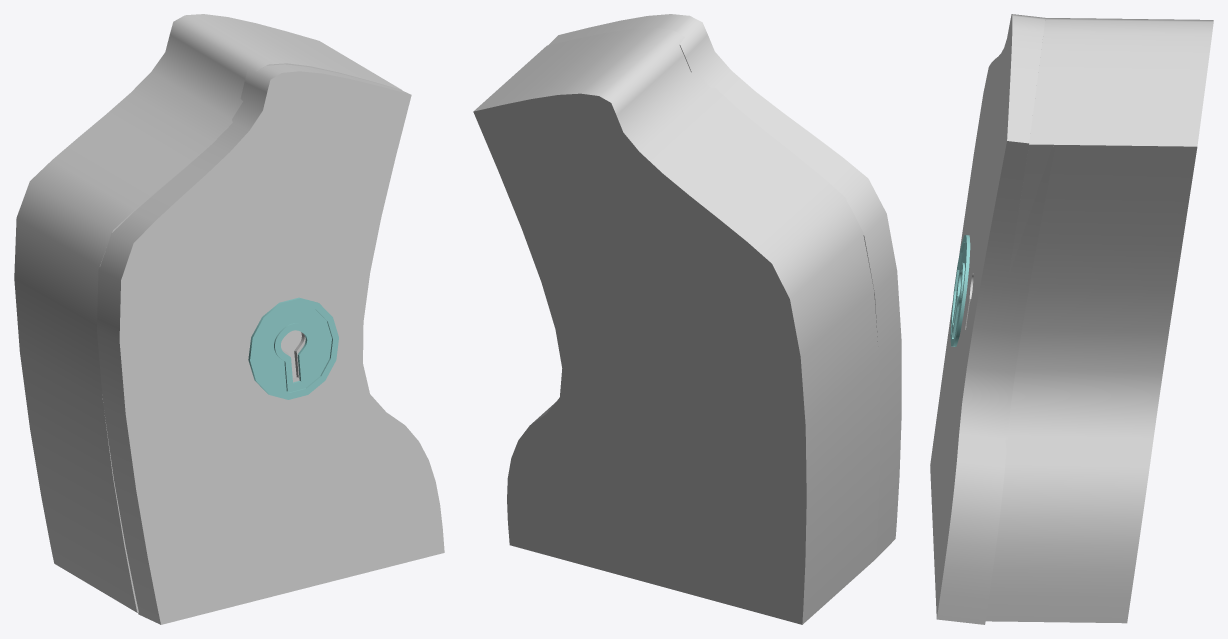
Rendered from schrank.FBX.
The picture shows the model from 3 angles, left to right: view 1: azimuth 30°, elevation 25°; view 2: azimuth 150°, elevation 25°; view 3: azimuth 270°, elevation 25°; orthographic projection. The views are drawn at different scales.
Visible parts, largest first — view 1: Line007, Line023, door; view 2: Line023, Line007; view 3: Line023, Line007, door.
Part boxes in pixels (x1,y1,x2,y2): Line007: [97, 64, 444, 624]; Line023: [14, 14, 401, 612]; door: [248, 297, 338, 399]; Line023: [473, 27, 880, 624]; Line007: [549, 14, 901, 558]; Line023: [985, 18, 1213, 623]; Line007: [930, 14, 1055, 624]; door: [950, 235, 970, 346].
Bounding box in the file's own units: 90.14 × 135 × 63.97.
